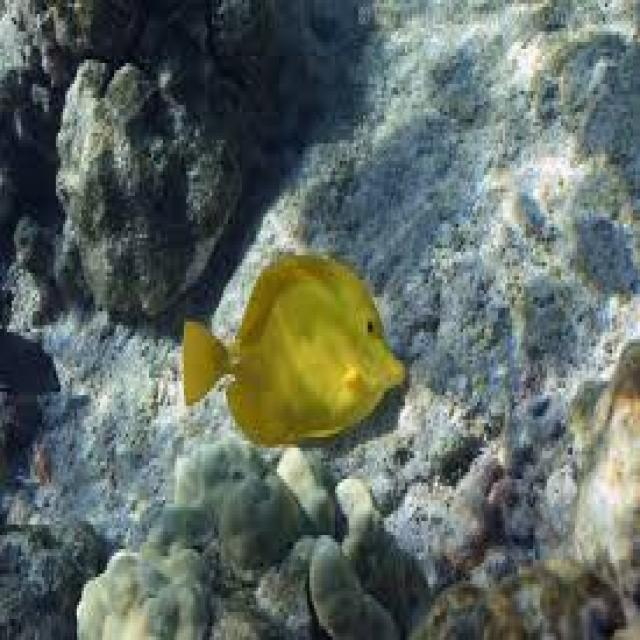YellowTang: (174, 245, 412, 476)
